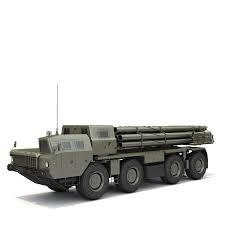MIL_SAM_TEL: (9, 115, 213, 195)
